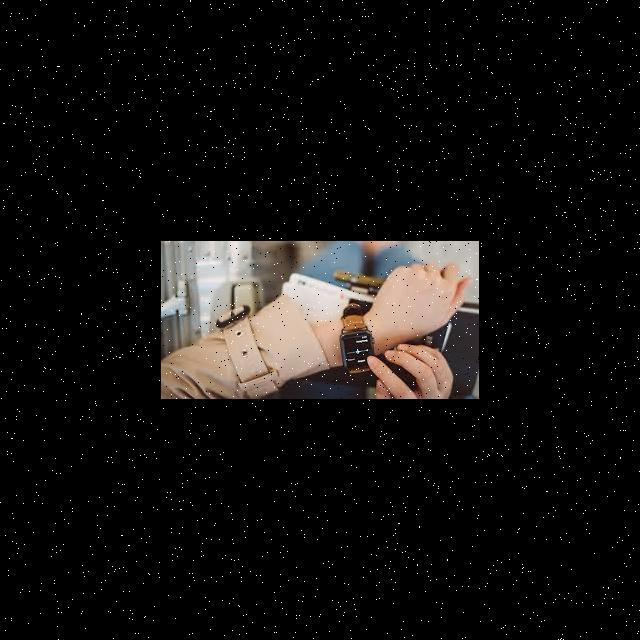watch: (335, 288, 405, 398)
